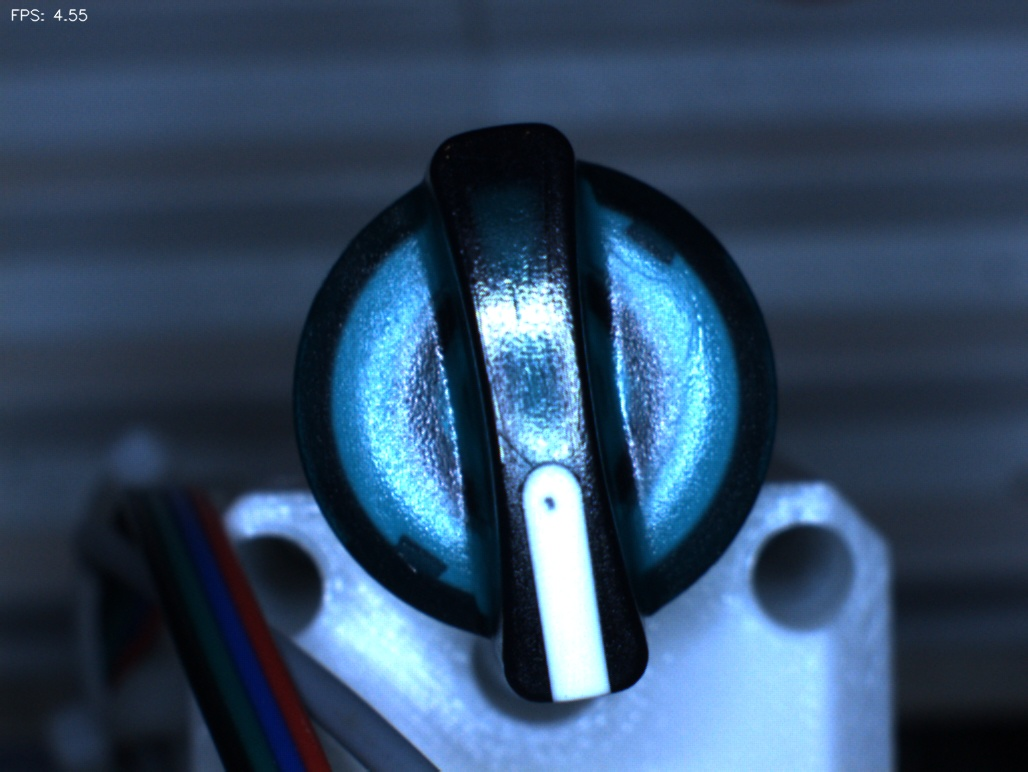PointNoir: (523, 483, 579, 539)
